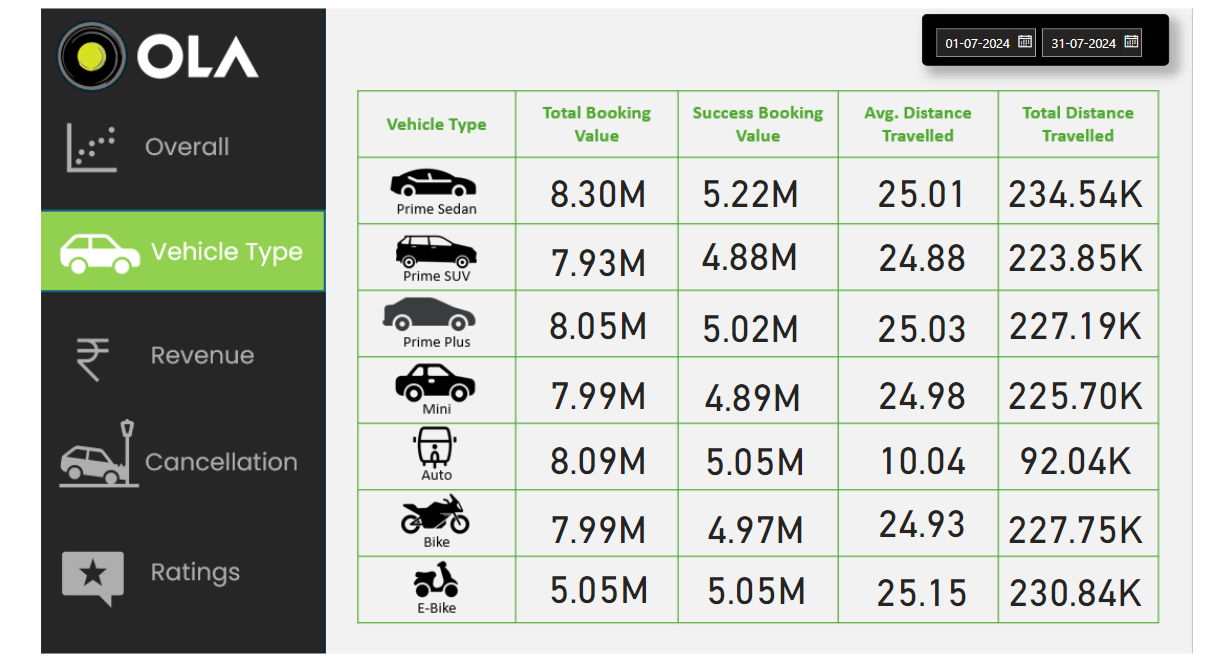

This screenshot's page, from the dashboard's own definition file:
{"tool":"powerbi","page":{"name":"Vehicle Type","canvas":[1280,720],"ordinal":1},"visuals":[{"type":"actionButton","box":[85.9,241.8,278.4,79.5],"z":0},{"type":"actionButton","box":[85.9,342,278.4,79.5],"z":1000},{"type":"actionButton","box":[85.9,437.4,278.4,79.5],"z":2000},{"type":"actionButton","box":[85.9,553.5,278.4,79.5],"z":3000},{"type":"actionButton","box":[85.9,136.8,278.4,79.5],"z":4000},{"type":"card","fields":{"Values":["Sum(Bookings - July.Booking_Value)"]},"box":[548,189,145.5,66.1],"z":5000},{"type":"card","fields":{"Values":["Sum(Bookings - July.Booking_Value)"]},"box":[548,255.1,145.5,66.1],"z":6000},{"type":"card","fields":{"Values":["Sum(Bookings - July.Booking_Value)"]},"box":[548,315.6,145.5,66.1],"z":7000},{"type":"card","fields":{"Values":["Sum(Bookings - July.Booking_Value)"]},"box":[548,381.7,145.5,66.1],"z":8000},{"type":"card","fields":{"Values":["Sum(Bookings - July.Booking_Value)"]},"box":[548,444.1,145.5,66.1],"z":9000},{"type":"card","fields":{"Values":["Sum(Bookings - July.Booking_Value)"]},"box":[548,510.2,145.5,66.1],"z":10000},{"type":"card","fields":{"Values":["Sum(Bookings - July.Booking_Value)"]},"box":[548,566.9,145.5,66.1],"z":11000},{"type":"card","fields":{"Values":["Sum(Bookings - July.Booking_Value)"]},"box":[693.5,189,145.5,66.1],"z":12000},{"type":"card","fields":{"Values":["Sum(Bookings - July.Booking_Value)"]},"box":[693.5,249.5,145.5,66.1],"z":13000},{"type":"card","fields":{"Values":["Sum(Bookings - July.Booking_Value)"]},"box":[693.5,317.5,145.5,66.1],"z":14000},{"type":"card","fields":{"Values":["Sum(Bookings - July.Booking_Value)"]},"box":[695.4,383.6,145.5,66.1],"z":15000},{"type":"card","fields":{"Values":["Sum(Bookings - July.Booking_Value)"]},"box":[697.3,446,145.5,66.1],"z":16000},{"type":"card","fields":{"Values":["Sum(Bookings - July.Booking_Value)"]},"box":[699.2,510.2,145.5,66.1],"z":17000},{"type":"card","fields":{"Values":["Sum(Bookings - July.Booking_Value)"]},"box":[699.2,568.8,145.5,66.1],"z":18000},{"type":"card","fields":{"Values":["Avg(Bookings - July.Ride_Distance)"]},"box":[858,189,145.5,66.1],"z":19000},{"type":"card","fields":{"Values":["Avg(Bookings - July.Ride_Distance)"]},"box":[858,251.3,145.5,66.1],"z":20000},{"type":"card","fields":{"Values":["Avg(Bookings - July.Ride_Distance)"]},"box":[858,570.7,145.5,66.1],"z":21000},{"type":"card","fields":{"Values":["Avg(Bookings - July.Ride_Distance)"]},"box":[858,504.6,145.5,66.1],"z":22000},{"type":"card","fields":{"Values":["Avg(Bookings - July.Ride_Distance)"]},"box":[858,444.1,145.5,66.1],"z":23000},{"type":"card","fields":{"Values":["Avg(Bookings - July.Ride_Distance)"]},"box":[858,381.7,145.5,66.1],"z":24000},{"type":"card","fields":{"Values":["Avg(Bookings - July.Ride_Distance)"]},"box":[858,317.5,145.5,66.1],"z":25000},{"type":"card","fields":{"Values":["Sum(Bookings - July.Ride_Distance)"]},"box":[1003.5,189,145.5,66.1],"z":26000},{"type":"card","fields":{"Values":["Sum(Bookings - July.Ride_Distance)"]},"box":[1003.5,251.3,145.5,66.1],"z":27000},{"type":"card","fields":{"Values":["Sum(Bookings - July.Ride_Distance)"]},"box":[1003.5,315.6,145.5,66.1],"z":28000},{"type":"card","fields":{"Values":["Sum(Bookings - July.Ride_Distance)"]},"box":[1003.5,381.7,145.5,66.1],"z":29000},{"type":"card","fields":{"Values":["Sum(Bookings - July.Ride_Distance)"]},"box":[1003.5,444.1,145.5,66.1],"z":30000},{"type":"card","fields":{"Values":["Sum(Bookings - July.Ride_Distance)"]},"box":[1003.5,510.2,145.5,66.1],"z":31000},{"type":"card","fields":{"Values":["Sum(Bookings - July.Ride_Distance)"]},"box":[1003.5,570.7,145.5,66.1],"z":32000},{"type":"slicer","title":"Date","fields":{"Values":["Bookings - July.Date"]},"box":[931.7,54.8,236.2,49.1],"z":33000}]}

Visuals, with their boxes on the page's 1280x720 design canvas (x1, y1, x2, y2). These are canvas units, not pixel positions in the 1225x672 screenshot, which may show the page scaled, cropped or inside an application window:
actionButton: BBox(86, 242, 364, 321)
actionButton: BBox(86, 342, 364, 422)
actionButton: BBox(86, 437, 364, 517)
actionButton: BBox(86, 554, 364, 633)
actionButton: BBox(86, 137, 364, 216)
card - Sum(Bookings - July.Booking_Value): BBox(548, 189, 694, 255)
card - Sum(Bookings - July.Booking_Value): BBox(548, 255, 694, 321)
card - Sum(Bookings - July.Booking_Value): BBox(548, 316, 694, 382)
card - Sum(Bookings - July.Booking_Value): BBox(548, 382, 694, 448)
card - Sum(Bookings - July.Booking_Value): BBox(548, 444, 694, 510)
card - Sum(Bookings - July.Booking_Value): BBox(548, 510, 694, 576)
card - Sum(Bookings - July.Booking_Value): BBox(548, 567, 694, 633)
card - Sum(Bookings - July.Booking_Value): BBox(694, 189, 839, 255)
card - Sum(Bookings - July.Booking_Value): BBox(694, 250, 839, 316)
card - Sum(Bookings - July.Booking_Value): BBox(694, 318, 839, 384)
card - Sum(Bookings - July.Booking_Value): BBox(695, 384, 841, 450)
card - Sum(Bookings - July.Booking_Value): BBox(697, 446, 843, 512)
card - Sum(Bookings - July.Booking_Value): BBox(699, 510, 845, 576)
card - Sum(Bookings - July.Booking_Value): BBox(699, 569, 845, 635)
card - Avg(Bookings - July.Ride_Distance): BBox(858, 189, 1004, 255)
card - Avg(Bookings - July.Ride_Distance): BBox(858, 251, 1004, 317)
card - Avg(Bookings - July.Ride_Distance): BBox(858, 571, 1004, 637)
card - Avg(Bookings - July.Ride_Distance): BBox(858, 505, 1004, 571)
card - Avg(Bookings - July.Ride_Distance): BBox(858, 444, 1004, 510)
card - Avg(Bookings - July.Ride_Distance): BBox(858, 382, 1004, 448)
card - Avg(Bookings - July.Ride_Distance): BBox(858, 318, 1004, 384)
card - Sum(Bookings - July.Ride_Distance): BBox(1004, 189, 1149, 255)
card - Sum(Bookings - July.Ride_Distance): BBox(1004, 251, 1149, 317)
card - Sum(Bookings - July.Ride_Distance): BBox(1004, 316, 1149, 382)
card - Sum(Bookings - July.Ride_Distance): BBox(1004, 382, 1149, 448)
card - Sum(Bookings - July.Ride_Distance): BBox(1004, 444, 1149, 510)
card - Sum(Bookings - July.Ride_Distance): BBox(1004, 510, 1149, 576)
card - Sum(Bookings - July.Ride_Distance): BBox(1004, 571, 1149, 637)
"Date" slicer: BBox(932, 55, 1168, 104)
